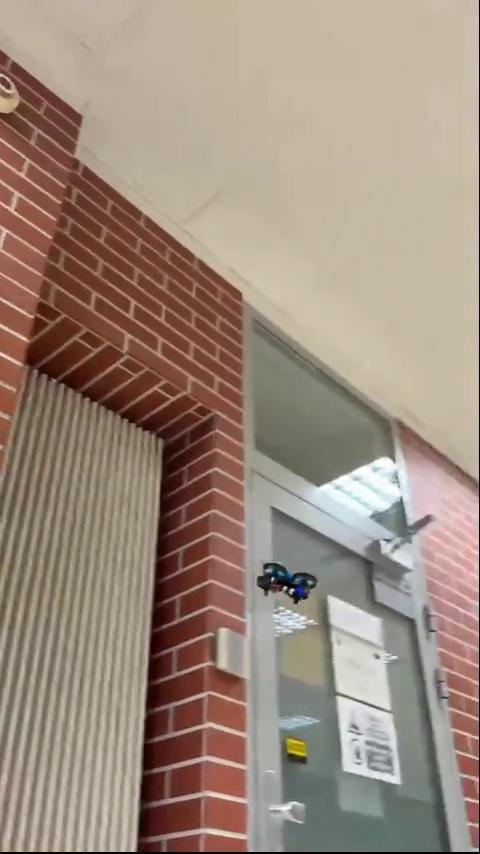drone: (253, 561, 318, 600)
